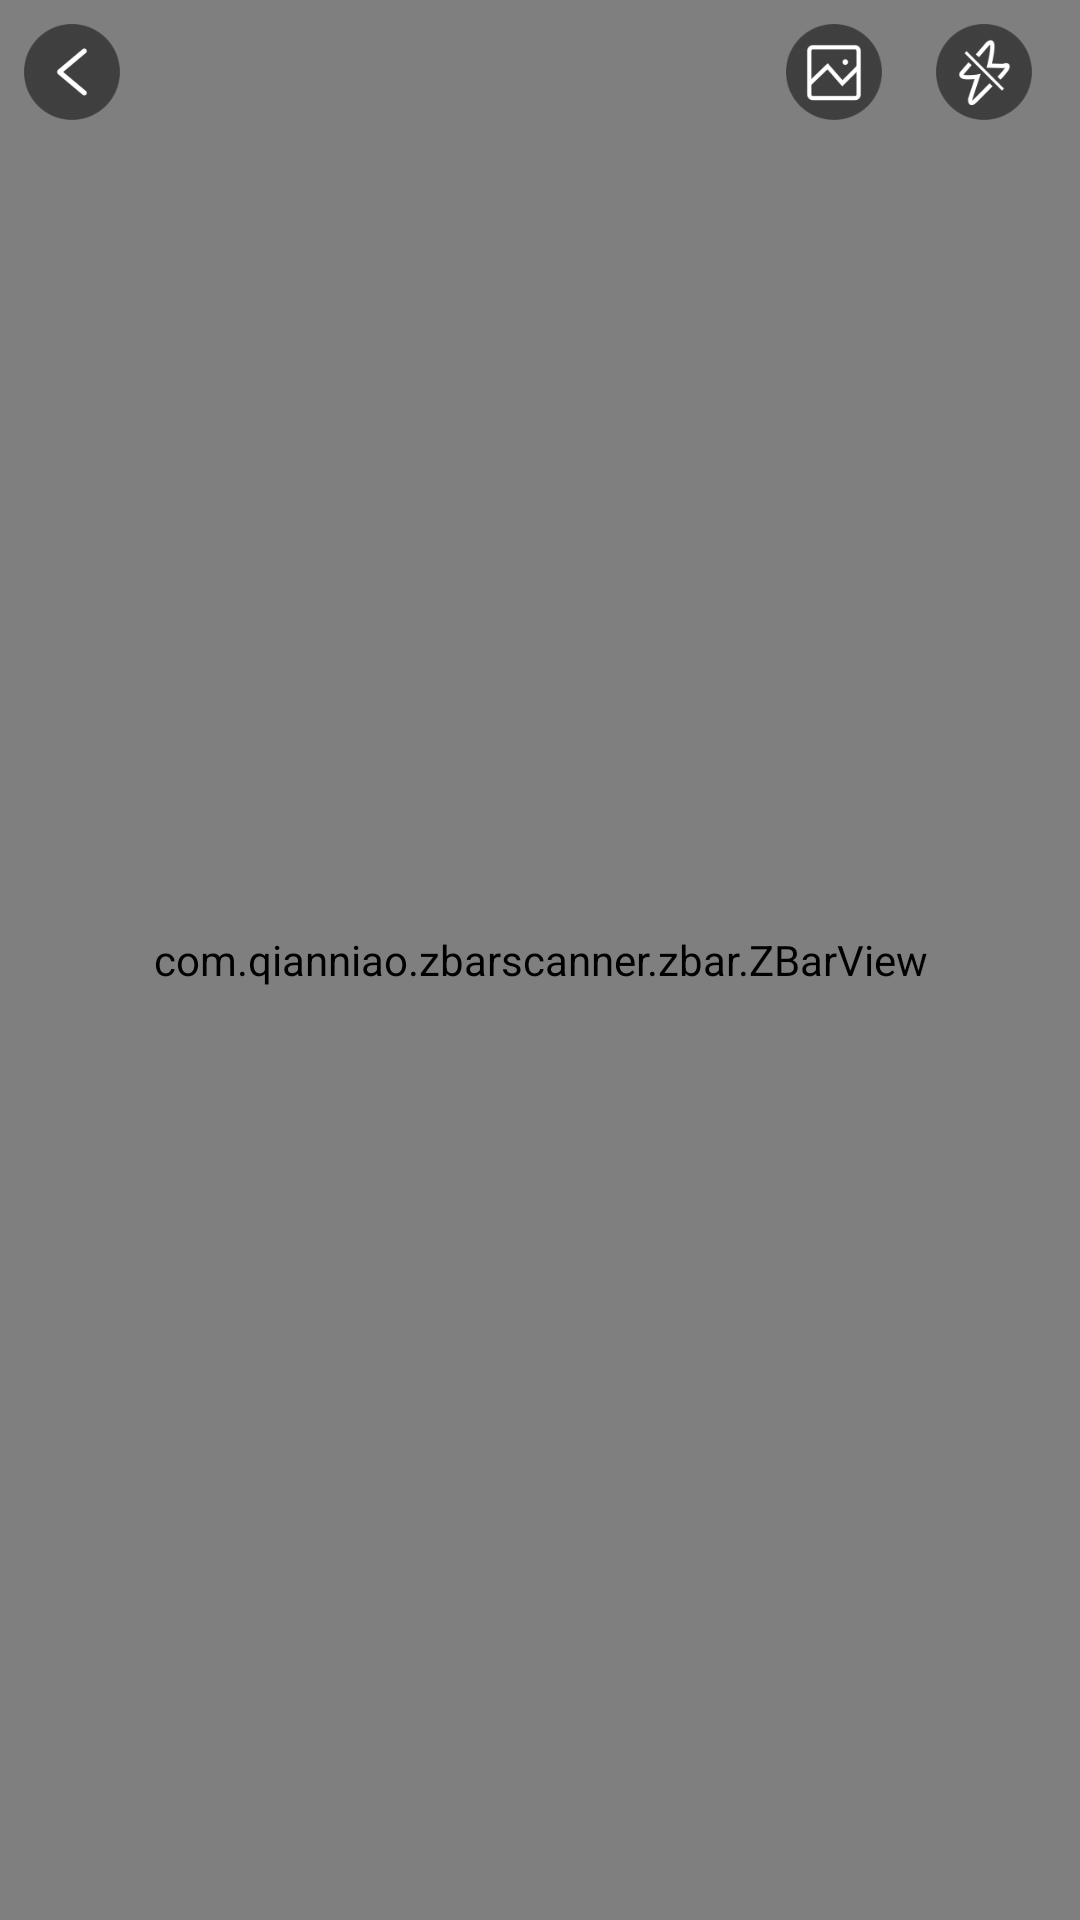

Icon click points for this 1080*1920 phone screenshot, format (x=x, y=y):
scancode back: (x=72, y=72)
scancode localimg: (x=834, y=72)
scancode toggle lamplight: (x=984, y=72)
